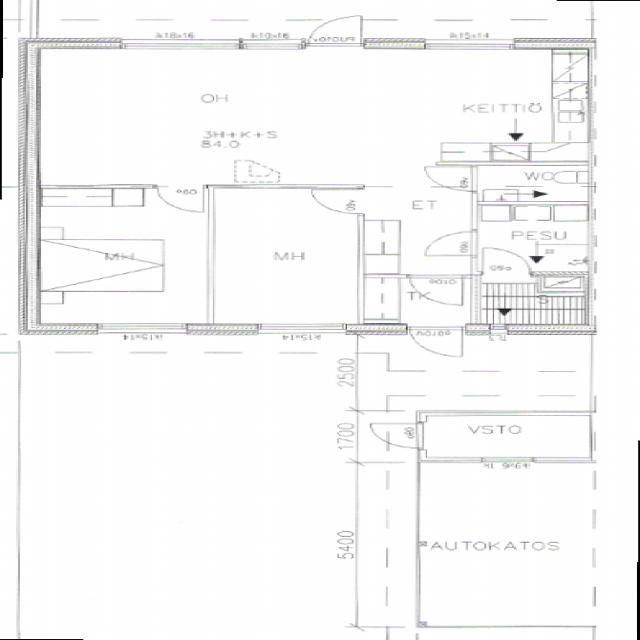door: (308, 11, 360, 49), (409, 324, 462, 361), (409, 275, 462, 305), (368, 423, 426, 448), (422, 166, 477, 192), (482, 247, 529, 275), (310, 189, 364, 213), (157, 184, 203, 212), (424, 231, 477, 255)
